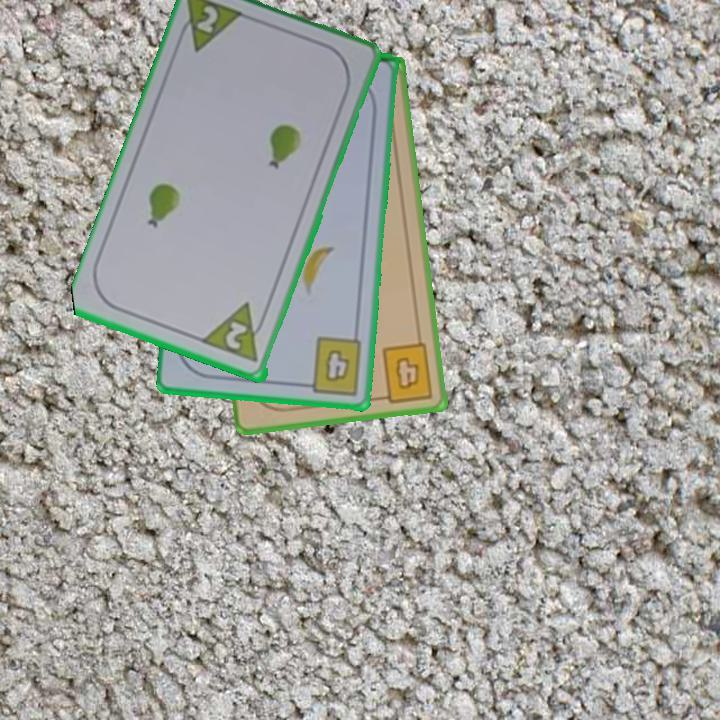2p: (221, 318, 251, 353), (193, 2, 222, 37)
4b: (298, 333, 366, 398), (374, 339, 436, 406)
